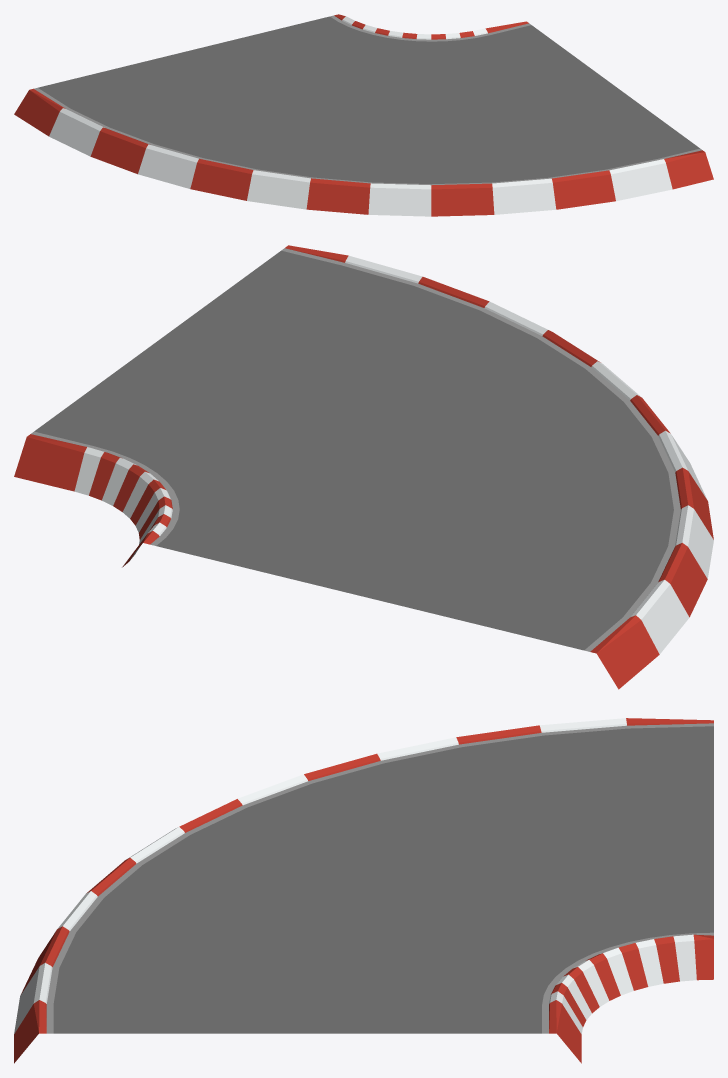
The model's file is curveRoad90.fbx.
3 views of the same model, one above another, from view 1: azimuth 30°, elevation 25°; view 2: azimuth 150°, elevation 25°; view 3: azimuth 270°, elevation 25° (orthographic). The views are drawn at different scales.
Visible parts, largest first — view 1: curveRoad90; view 2: curveRoad90; view 3: curveRoad90.
Part boxes in pixels (x1,y1,x2,y2): curveRoad90: [14, 14, 713, 216]; curveRoad90: [14, 245, 713, 689]; curveRoad90: [14, 718, 713, 1063].
Bounding box in the file's own units: 2222 × 112 × 2029.
